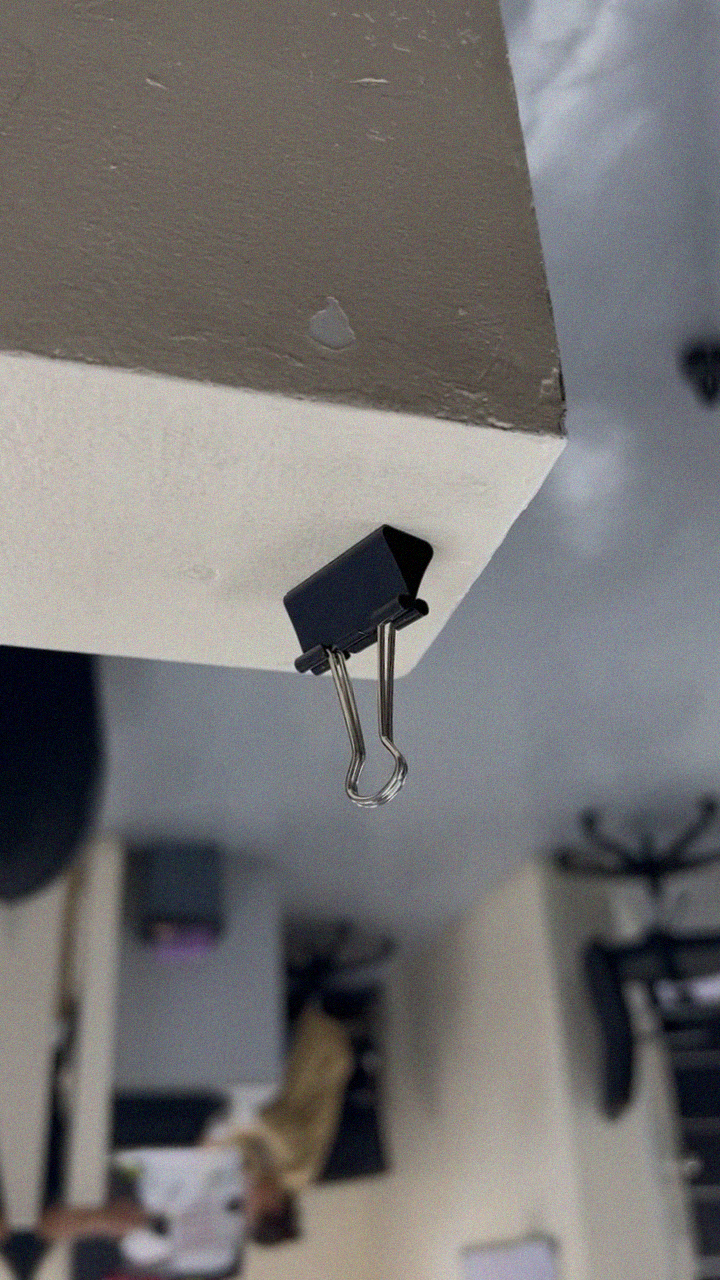kep_giay: (268, 517, 451, 813)
